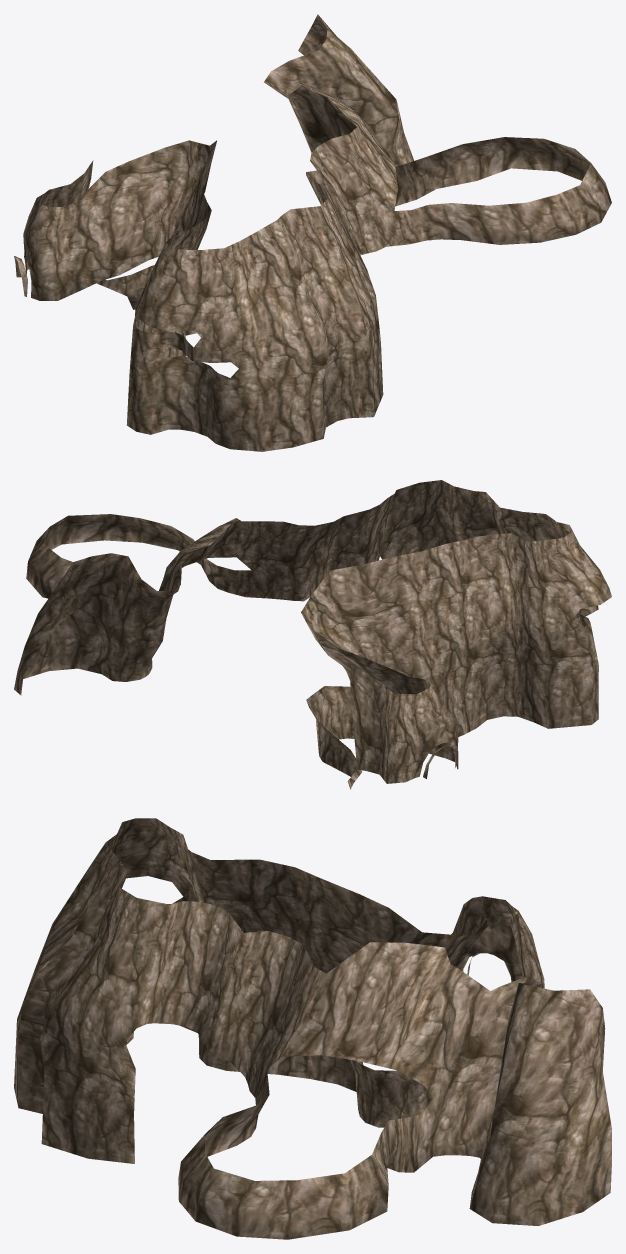
Rendered from EKH_THRONE_PS_TH_LINE17.fbx.
3 renders of one model, top to bottom at view 1: azimuth 30°, elevation 25°; view 2: azimuth 150°, elevation 25°; view 3: azimuth 270°, elevation 25°, orthographic. The views are drawn at different scales.
Visible parts, largest first — view 1: EKH_THRONE_PS_TH_LINE17; view 2: EKH_THRONE_PS_TH_LINE17; view 3: EKH_THRONE_PS_TH_LINE17.
Boxes of the visible parts, x1,y1,x2,y2 form: EKH_THRONE_PS_TH_LINE17: (14, 14, 611, 451); EKH_THRONE_PS_TH_LINE17: (14, 480, 611, 789); EKH_THRONE_PS_TH_LINE17: (14, 818, 611, 1239).
Bounding box in the file's own units: 360511 × 135336 × 288028.
1 material, 1 textured.
